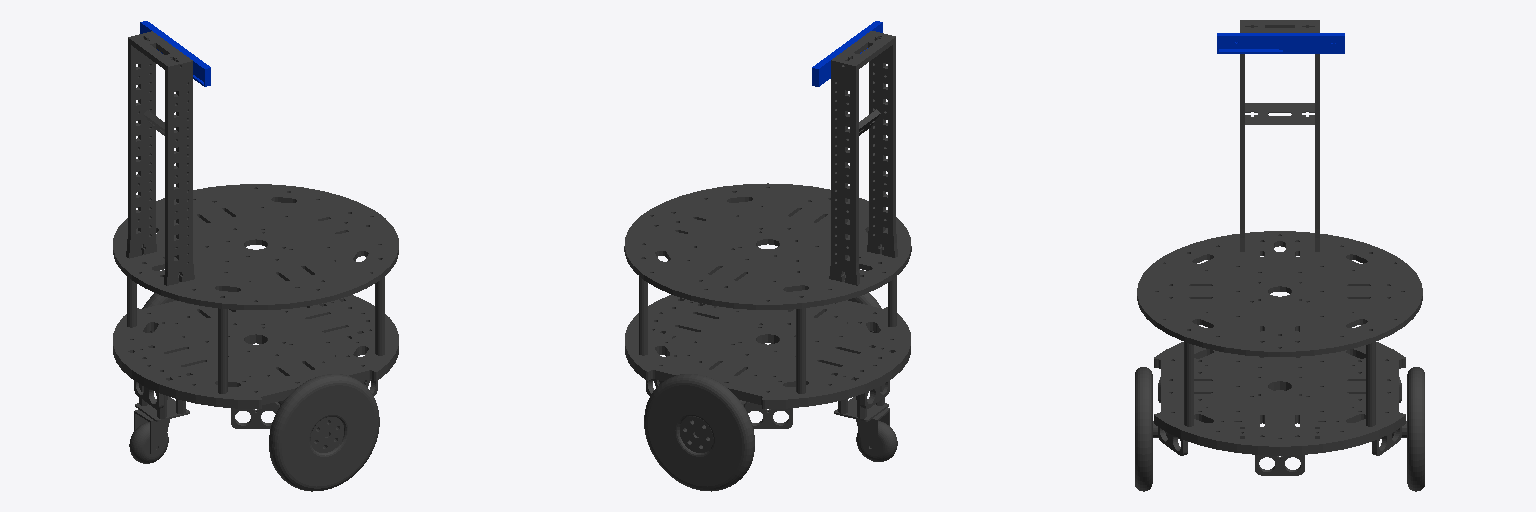
URDF robot description (ros_bot):
<robot
  name="ros_bot">
  <link
    name="base_link">
    <inertial>
      <origin
        xyz="-0.012567 -4.1577E-05 0.053046"
        rpy="0 0 0" />
      <mass
        value="1.2382" />
      <inertia
        ixx="0.014368"
        ixy="-5.9465E-06"
        ixz="0.0015576"
        iyy="0.01573"
        iyz="-6.5113E-06"
        izz="0.013211" />
    </inertial>
    <visual>
      <origin
        xyz="0 0 0"
        rpy="0 0 0" />
      <geometry>
        <mesh
          filename="package://mx_description/meshes/base_link.STL" />
      </geometry>
      <material
        name="arcylic">
        <color
          rgba="0.29804 0.29804 0.29804 1" />
      </material>
    </visual>
    <collision>
      <origin
        xyz="0 0 0"
        rpy="0 0 0" />
      <geometry>
        <mesh
          filename="package://mx_description/meshes/base_link.STL" />
      </geometry>
    </collision>
  </link>
  <link
    name="left_wheel_link">
    <inertial>
      <origin
        xyz="-0.0187698324757432 2.67563748934663E-14 1.07552855510562E-14"
        rpy="0 0 0" />
      <mass
        value="0.209351737220227" />
      <inertia
        ixx="0.000404640656994838"
        ixy="-2.80165890638414E-16"
        ixz="-1.12742278313588E-16"
        iyy="0.000207814987613485"
        iyz="1.35525271560688E-20"
        izz="0.000207814987613485" />
    </inertial>
    <visual>
      <origin
        xyz="0 0 0"
        rpy="0 0 0" />
      <geometry>
        <mesh
          filename="package://mx_description/meshes/left_wheel_link.STL" />
      </geometry>
      <material
        name="">
        <color
          rgba="0.298039215686275 0.298039215686275 0.298039215686275 1" />
      </material>
    </visual>
    <collision>
      <origin
        xyz="0 0 0"
        rpy="0 0 0" />
      <geometry>
        <mesh
          filename="package://mx_description/meshes/left_wheel_link.STL" />
      </geometry>
    </collision>
  </link>
  <joint
    name="left_wheel"
    type="continuous">
    <origin
      xyz="0 0.119 -0.038"
      rpy="2.7591 5.9014E-39 -1.5708" />
    <parent
      link="base_link" />
    <child
      link="left_wheel_link" />
    <axis
      xyz="-1 0 0" />
  </joint>
  <link
    name="right_wheel_link">
    <inertial>
      <origin
        xyz="-0.0187698324757432 1.0325074129014E-14 -2.68118860446975E-14"
        rpy="0 0 0" />
      <mass
        value="0.209351737220227" />
      <inertia
        ixx="0.000404640656994838"
        ixy="-1.0835036026544E-16"
        ixz="2.81261901890978E-16"
        iyy="0.000207814987613485"
        iyz="6.7762635780344E-21"
        izz="0.000207814987613485" />
    </inertial>
    <visual>
      <origin
        xyz="0 0 0"
        rpy="0 0 0" />
      <geometry>
        <mesh
          filename="package://mx_description/meshes/right_wheel_link.STL" />
      </geometry>
      <material
        name="">
        <color
          rgba="0.298039215686275 0.298039215686275 0.298039215686275 1" />
      </material>
    </visual>
    <collision>
      <origin
        xyz="0 0 0"
        rpy="0 0 0" />
      <geometry>
        <mesh
          filename="package://mx_description/meshes/right_wheel_link.STL" />
      </geometry>
    </collision>
  </link>
  <joint
    name="right_wheel"
    type="continuous">
    <origin
      xyz="0 -0.119 -0.038"
      rpy="-1.9384 -5.9014E-39 1.5708" />
    <parent
      link="base_link" />
    <child
      link="right_wheel_link" />
    <axis
      xyz="1 0 0" />
  </joint>
  <link
    name="camera_link">
    <inertial>
      <origin
        xyz="0.00255704490295461 0.00399310539251607 -0.000513929217654141"
        rpy="0 0 0" />
      <mass
        value="0.0192165264280458" />
      <inertia
        ixx="7.23354486409433E-07"
        ixy="-4.88427025209216E-09"
        ixz="-3.27508783497781E-07"
        iyy="2.7697591865378E-05"
        iyz="-4.04259133306887E-10"
        izz="2.71788391859005E-05" />
    </inertial>
    <visual>
      <origin
        xyz="0 0 0"
        rpy="0 0 0" />
      <geometry>
        <mesh
          filename="package://mx_description/meshes/camera_link.STL" />
      </geometry>
      <material
        name="">
        <color
          rgba="0.00784313725490196 0.23921568627451 0.823529411764706 1" />
      </material>
    </visual>
    <collision>
      <origin
        xyz="0 0 0"
        rpy="0 0 0" />
      <geometry>
        <mesh
          filename="package://mx_description/meshes/camera_link.STL" />
      </geometry>
    </collision>
  </link>
  <joint
    name="realsense"
    type="fixed">
    <origin
      xyz="-0.097 0.001 0.35"
      rpy="3.1416 -5.9014E-39 1.5708" />
    <parent
      link="base_link" />
    <child
      link="camera_link" />
    <axis
      xyz="0 0 0" />
  </joint>
</robot>

--- Render facts (derived) ---
3 views of the same robot in one strip: view 1: azimuth 30°, elevation 25°; view 2: azimuth 150°, elevation 25°; view 3: azimuth 270°, elevation 25° (orthographic).
Robot: ros_bot — 4 links, 3 joints (2 continuous, 1 fixed); root link base_link; default pose: every joint at zero.
Links seen in each view (by area): view 1: base_link, right_wheel_link, camera_link; view 2: base_link, left_wheel_link, camera_link; view 3: base_link, camera_link, left_wheel_link, right_wheel_link.
Boxes of the visible links, x1,y1,x2,y2 form: base_link: (113, 31, 398, 463); right_wheel_link: (269, 374, 379, 491); camera_link: (140, 21, 210, 86); base_link: (624, 31, 911, 461); left_wheel_link: (644, 374, 754, 491); camera_link: (812, 21, 882, 86); base_link: (1137, 20, 1422, 475); camera_link: (1217, 33, 1344, 53); left_wheel_link: (1401, 367, 1424, 491); right_wheel_link: (1135, 367, 1158, 491).
Size in the robot's own frame: 0.2928 by 0.294 by 0.461 metres.
Meshes: 4 distinct files referenced, 4 mesh visuals loaded (4 binary STL).